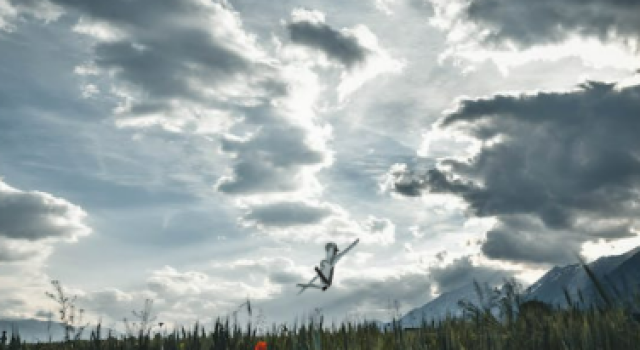military drone: (295, 237, 360, 295)
